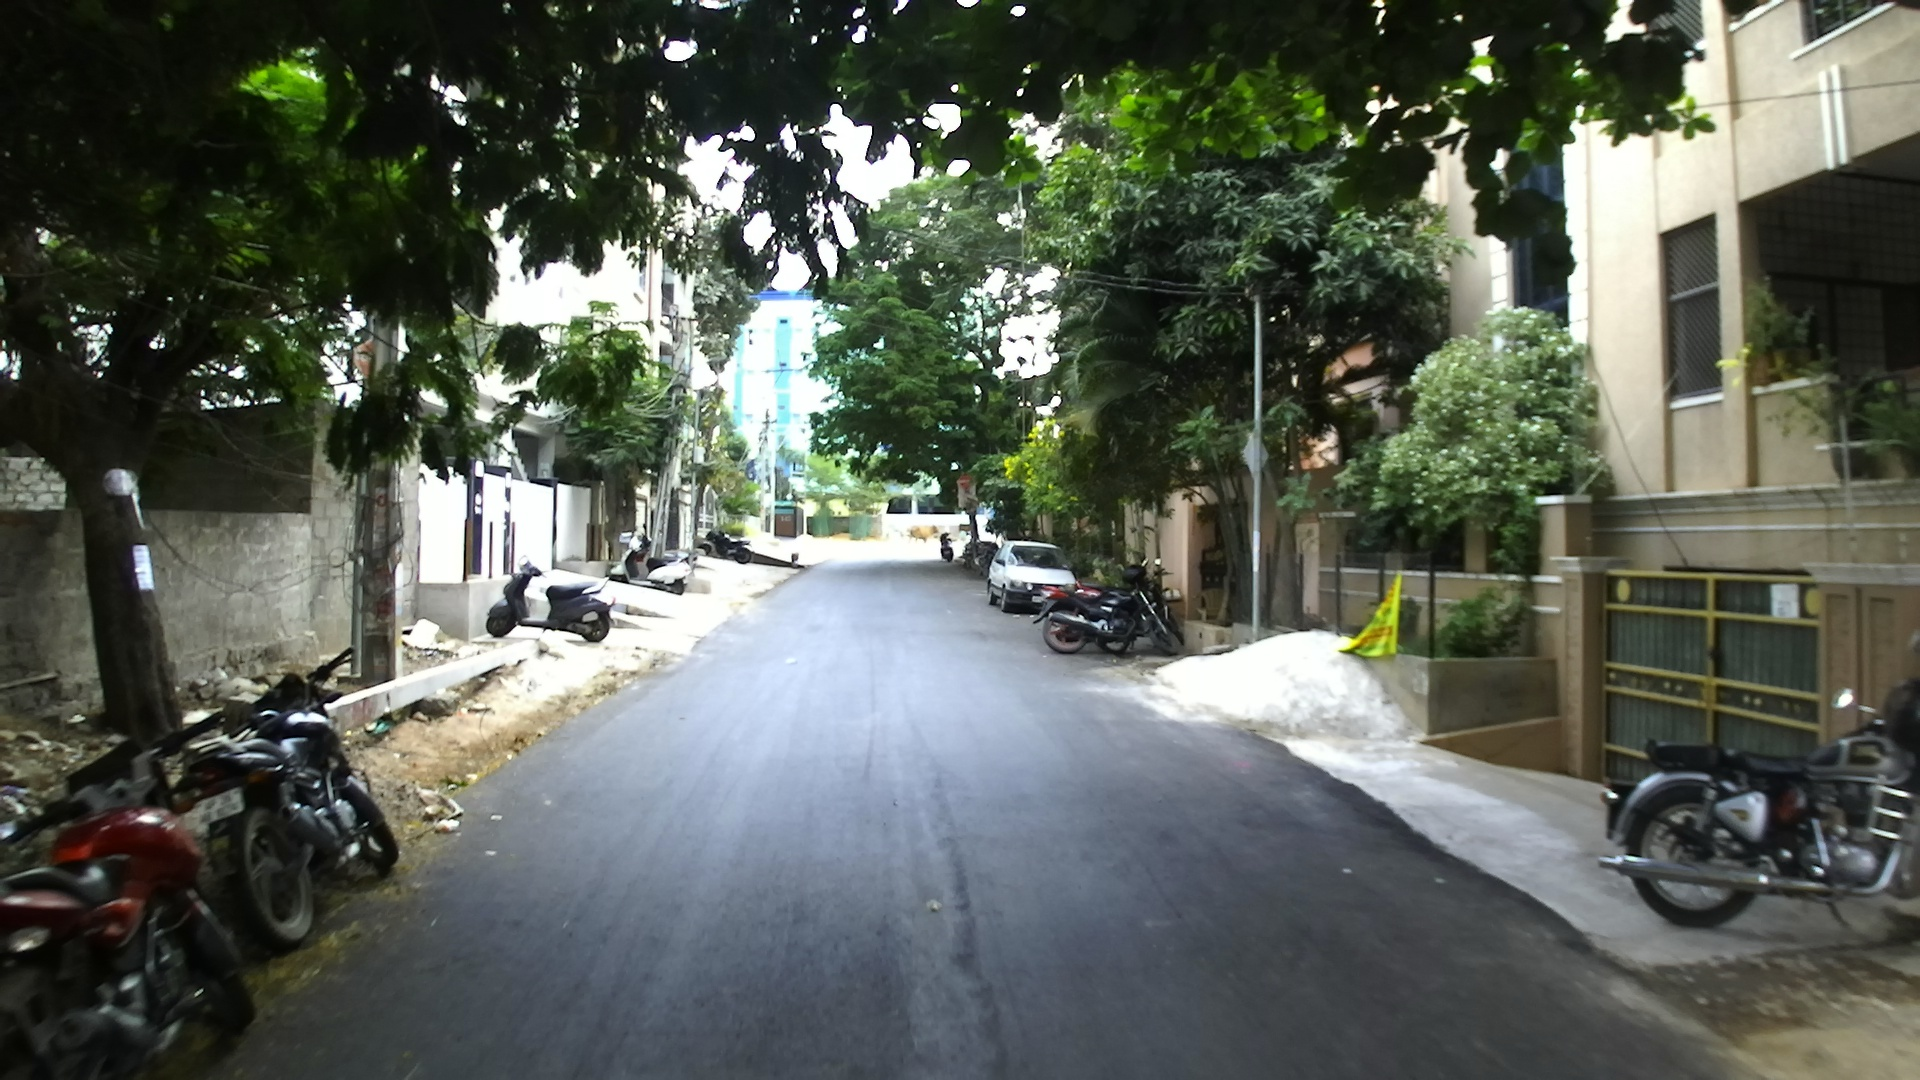vehicle: (0, 731, 260, 1075), (1604, 691, 1919, 935), (1039, 587, 1182, 661), (984, 541, 1077, 613)
